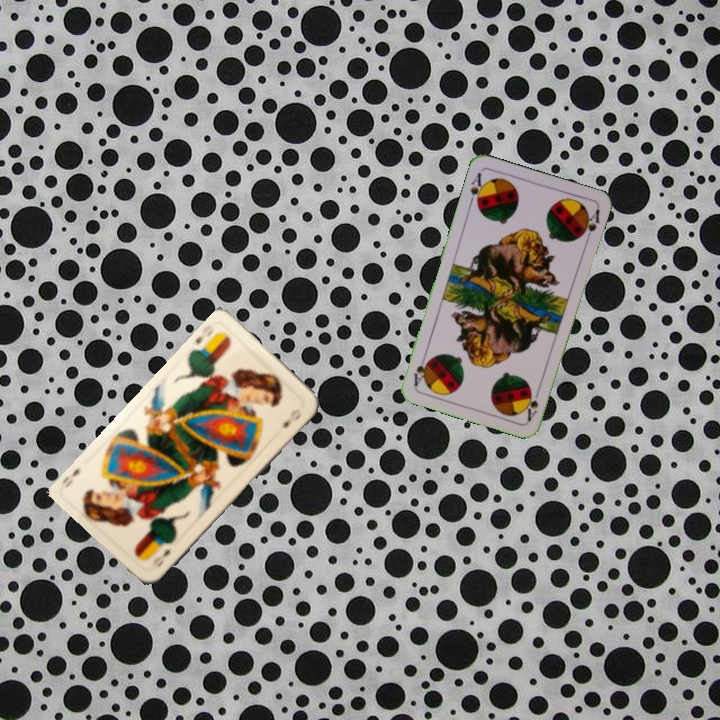EO: (188, 322, 217, 349), (149, 545, 173, 571)
SA: (465, 168, 488, 209), (523, 384, 543, 424)
